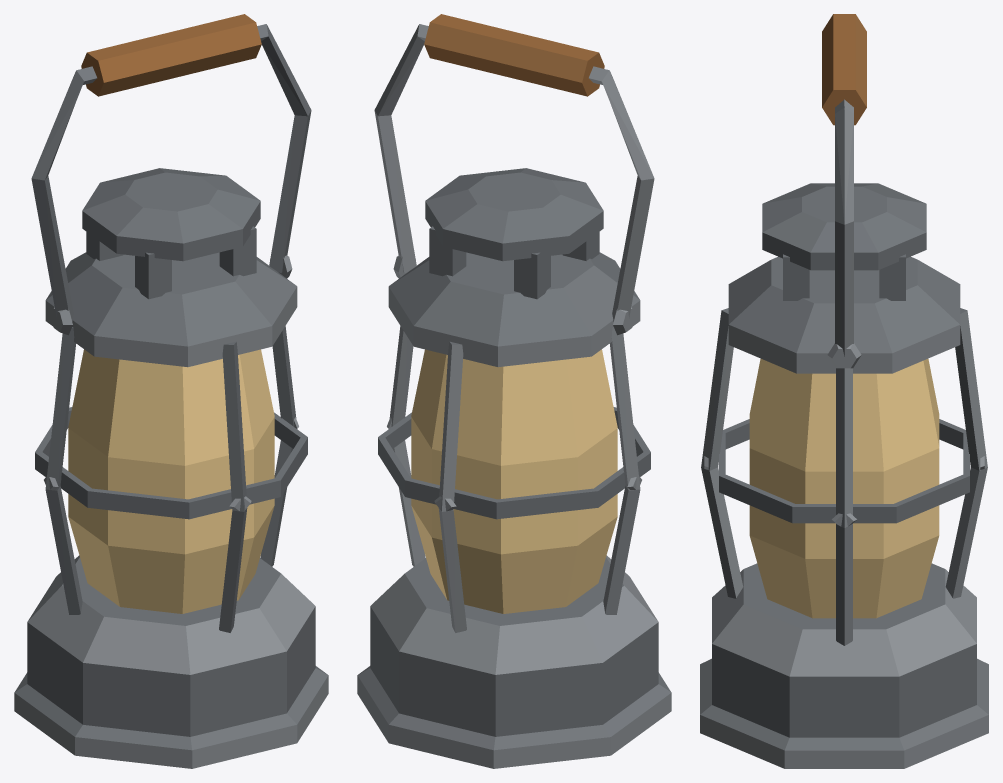
Rendered from Hand Lantern.fbx.
The picture shows the model from 3 angles, left to right: view 1: azimuth 30°, elevation 25°; view 2: azimuth 150°, elevation 25°; view 3: azimuth 270°, elevation 25°; orthographic projection.
Visible parts, largest first — view 1: Hand Lantern.Static, Hand Lantern.Handle; view 2: Hand Lantern.Static, Hand Lantern.Handle; view 3: Hand Lantern.Static, Hand Lantern.Handle.
Boxes of the visible parts, x1,y1,x2,y2 form: Hand Lantern.Static: [14, 168, 328, 768]; Hand Lantern.Handle: [31, 14, 311, 321]; Hand Lantern.Static: [357, 168, 671, 768]; Hand Lantern.Handle: [374, 14, 654, 321]; Hand Lantern.Static: [700, 183, 988, 768]; Hand Lantern.Handle: [822, 14, 866, 356].
Size of the model in its own units: 29.8 by 67.62 by 26.98.
